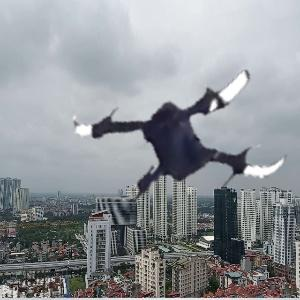drone: (76, 15, 298, 237)
